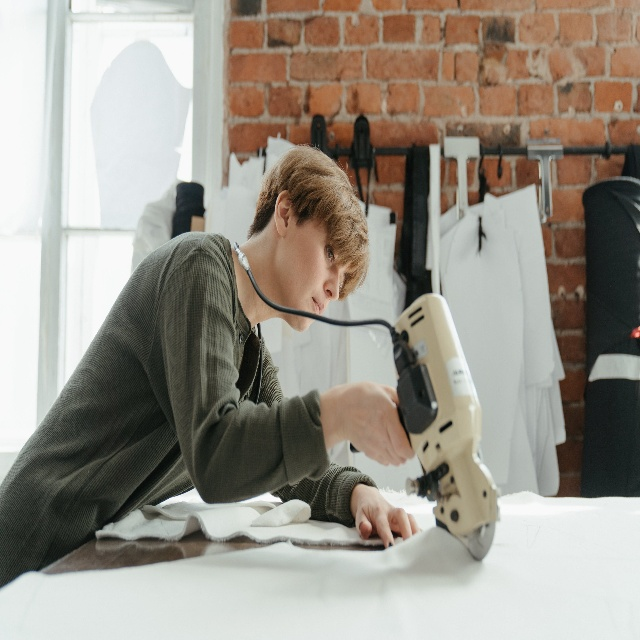Sin_guantes: (339, 380, 415, 468), (355, 486, 421, 548)
